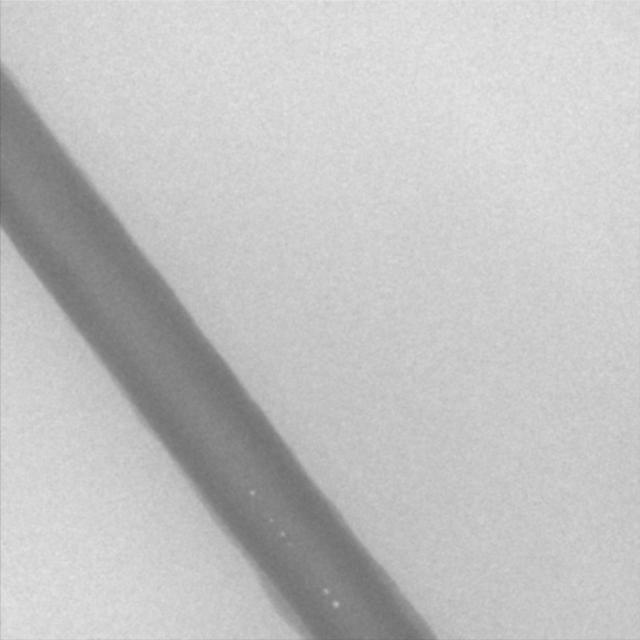air hole: (331, 599, 340, 609), (321, 585, 330, 595), (249, 488, 257, 498)
